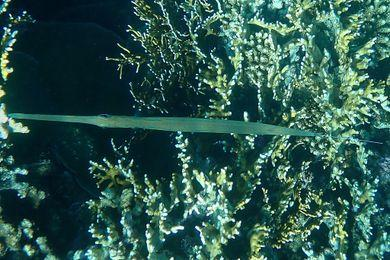Fistularia commersonii: (6, 90, 373, 164)
